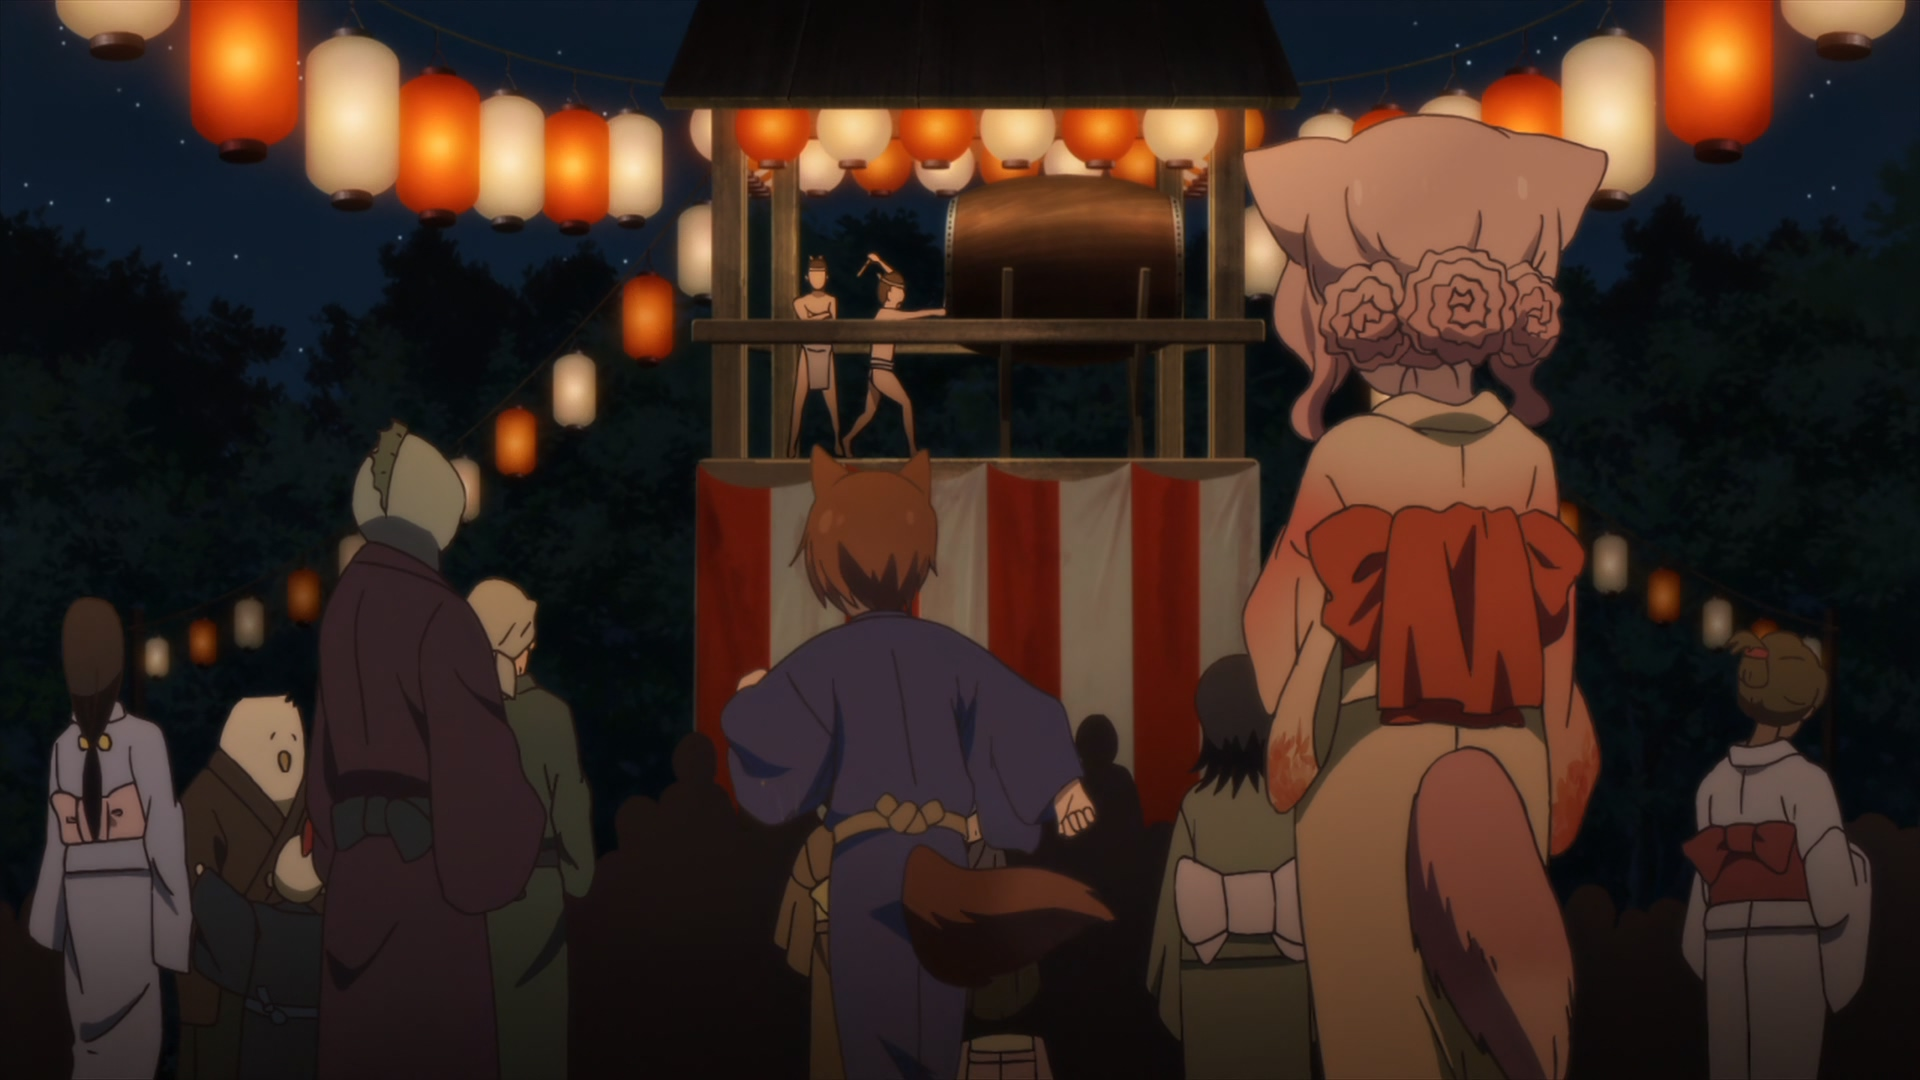其他: (223, 440, 593, 998), (1683, 630, 1873, 1080), (29, 599, 189, 1080), (1149, 657, 1320, 1080), (467, 578, 588, 1080), (182, 698, 320, 1080), (843, 253, 947, 456), (777, 796, 837, 1080), (786, 256, 844, 458)
枣: (724, 447, 1117, 1080)
莲: (1242, 115, 1610, 1080)
